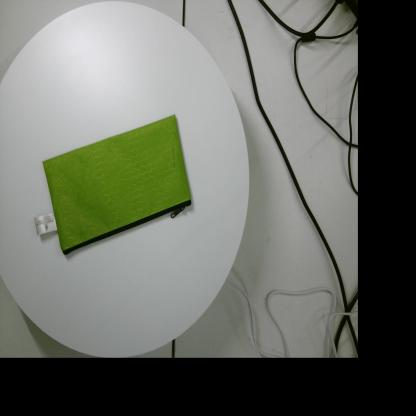Stationery: (34, 114, 192, 255)
